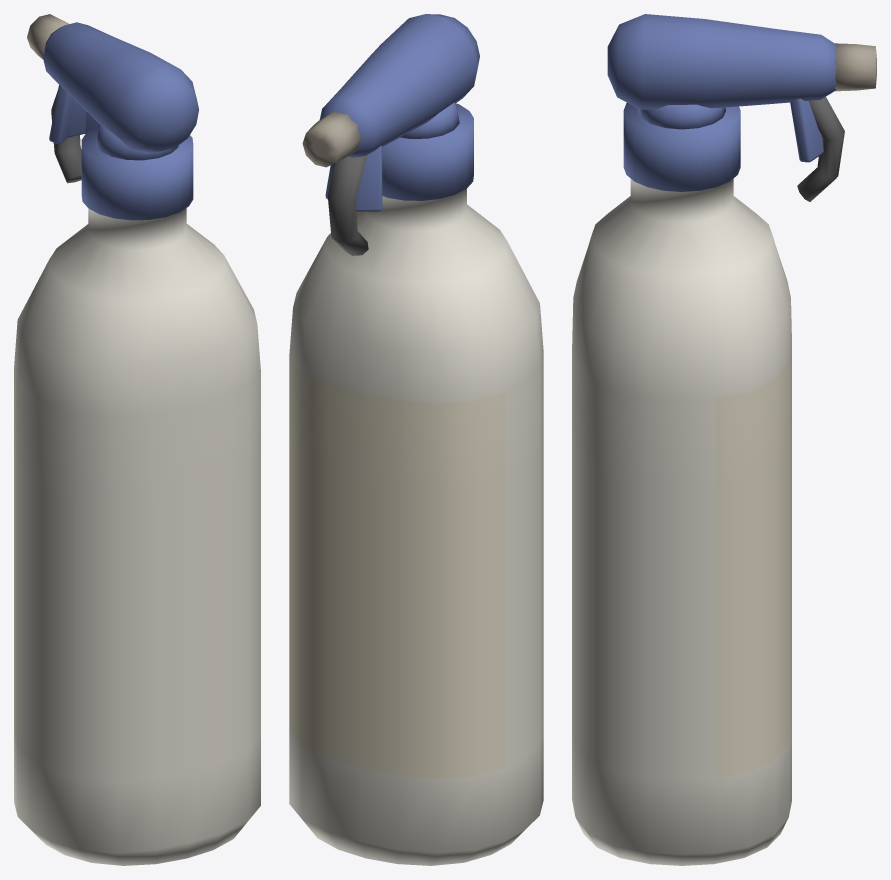
File: js_spray.glb
The picture shows the model from 3 angles, left to right: view 1: azimuth 30°, elevation 25°; view 2: azimuth 150°, elevation 25°; view 3: azimuth 270°, elevation 25°; orthographic projection. The views are drawn at different scales.
Visible parts, largest first — view 1: js_spray; view 2: js_spray; view 3: js_spray.
Part boxes in pixels (box(x1,y1,x2,y2)): js_spray: box(14, 14, 260, 865); js_spray: box(289, 14, 543, 865); js_spray: box(572, 14, 876, 865).
Size of the model in its own units: 0.072 by 0.2486 by 0.0858.
